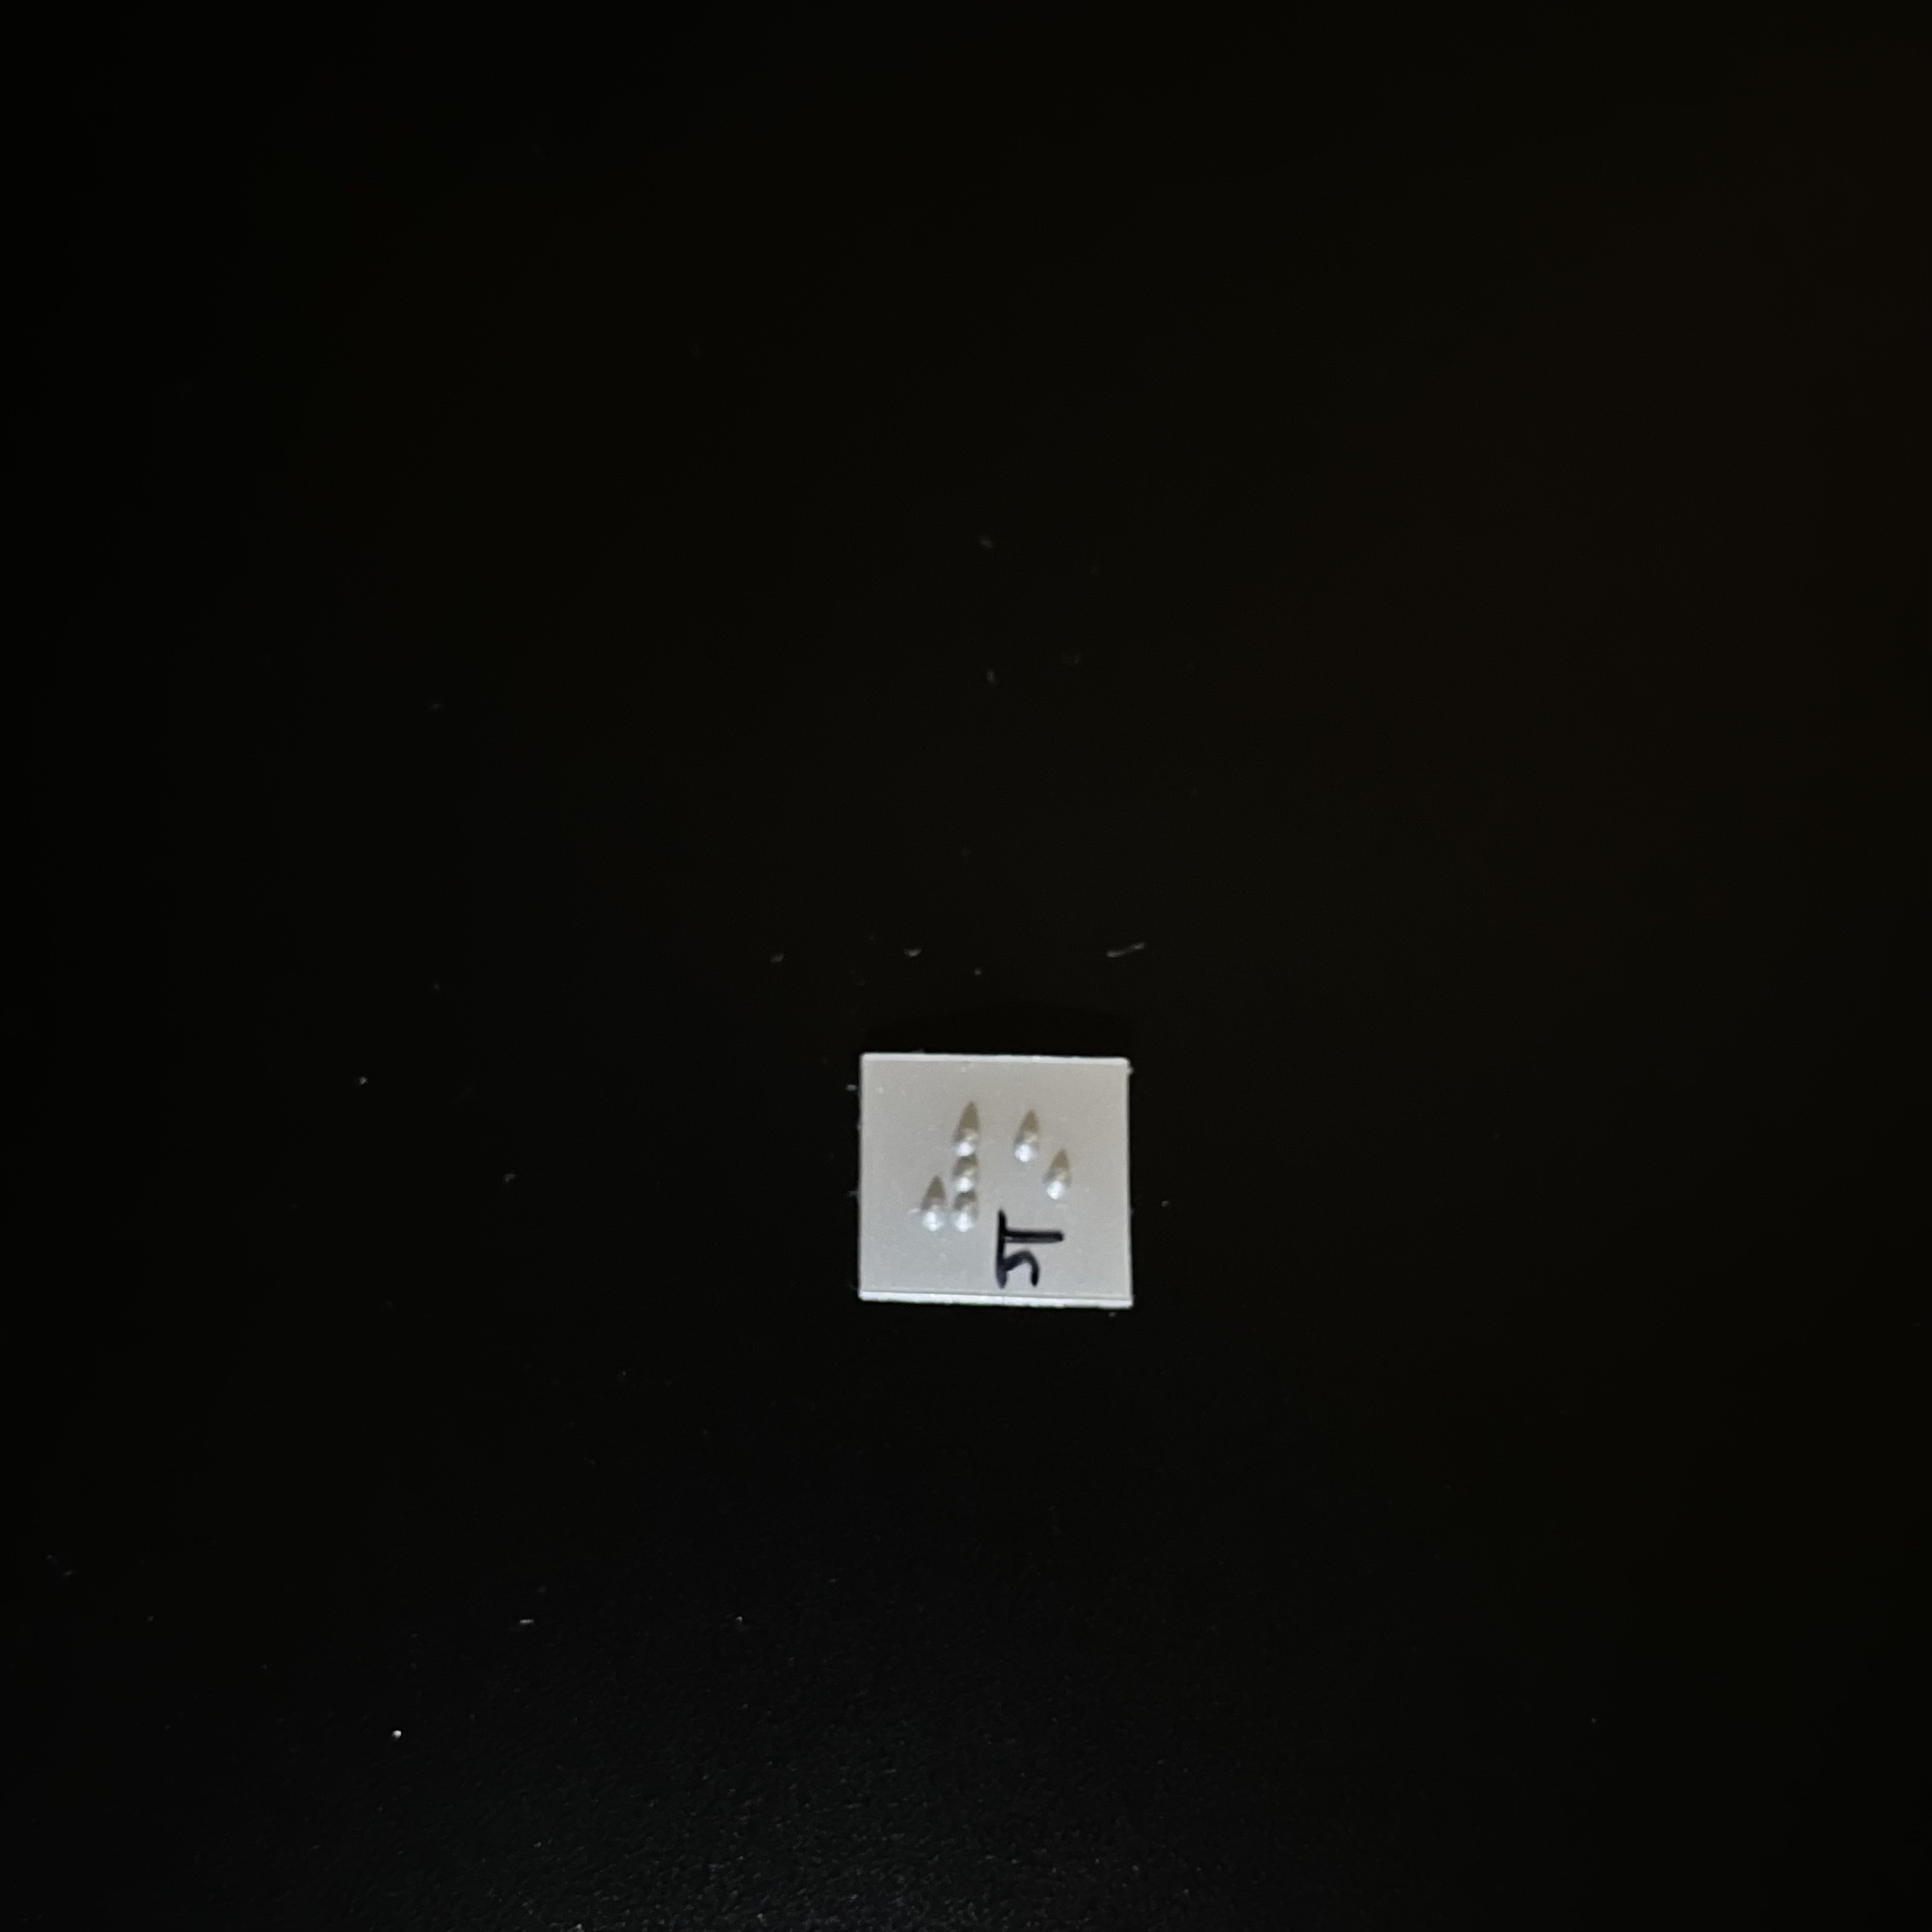#: (915, 1103, 996, 1236)
e: (1005, 1106, 1078, 1236)
